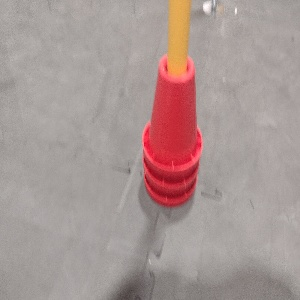Red_3: (142, 50, 202, 204)
